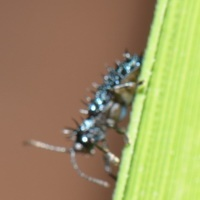insect: (26, 52, 141, 187)
